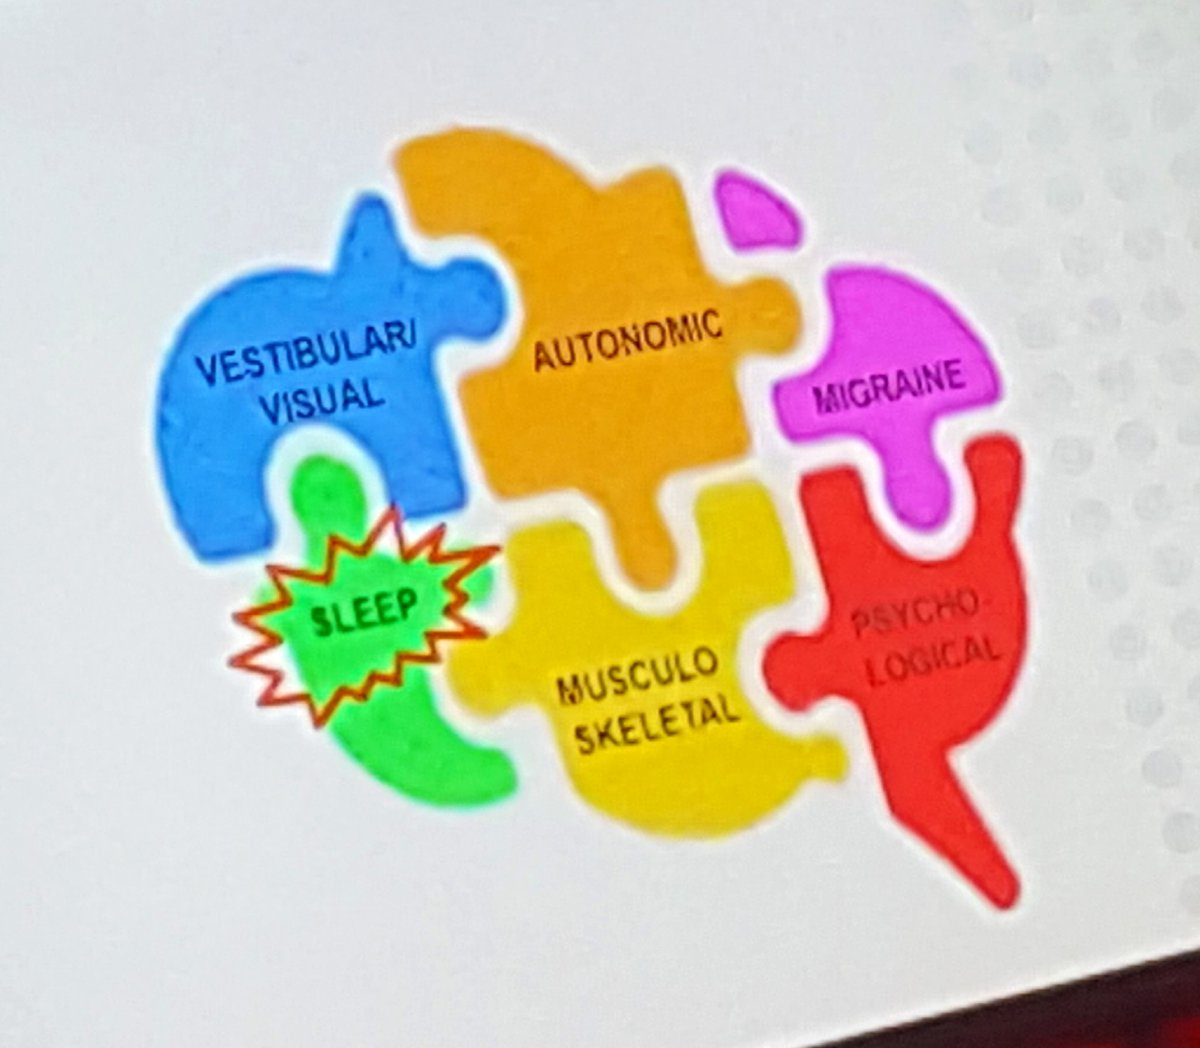puzzle piece: (378, 83, 836, 617)
